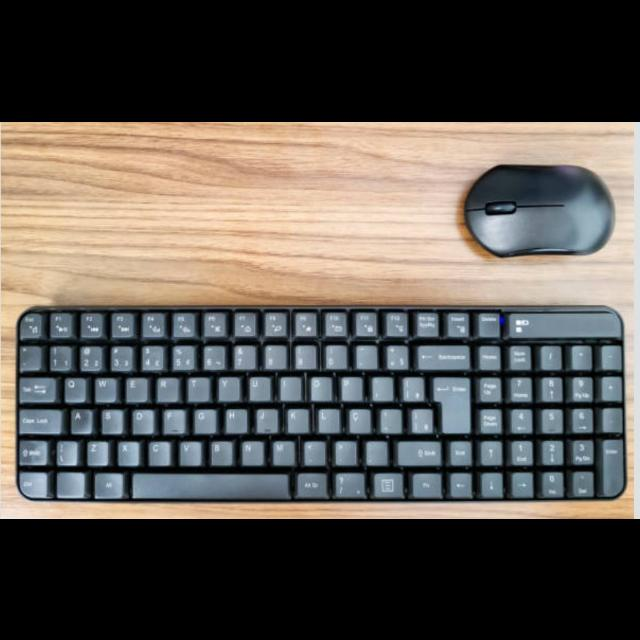Computer-Keyboard: (12, 304, 633, 507)
Computer-Mouse: (460, 163, 616, 258)
